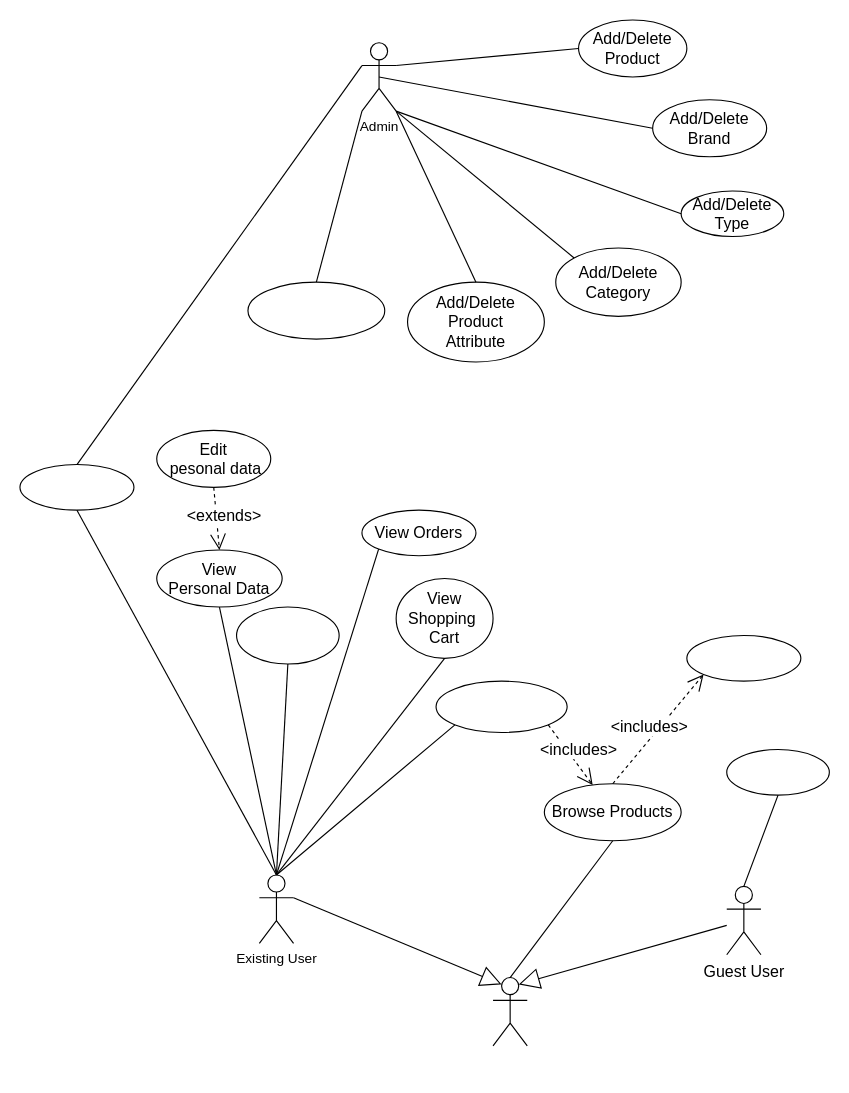
Image size: 849x1093. Some labels were removed from this diagram. Each missing label, with the box of its shape:
Add To Shopping Cart: (435, 680, 567, 732)
Apply FIlters: (686, 634, 801, 681)
Customer: (492, 976, 527, 1046)
Login: (19, 463, 134, 510)
Place Order: (235, 606, 339, 664)
Register: (726, 748, 829, 795)
View Existing Users: (247, 281, 385, 339)
